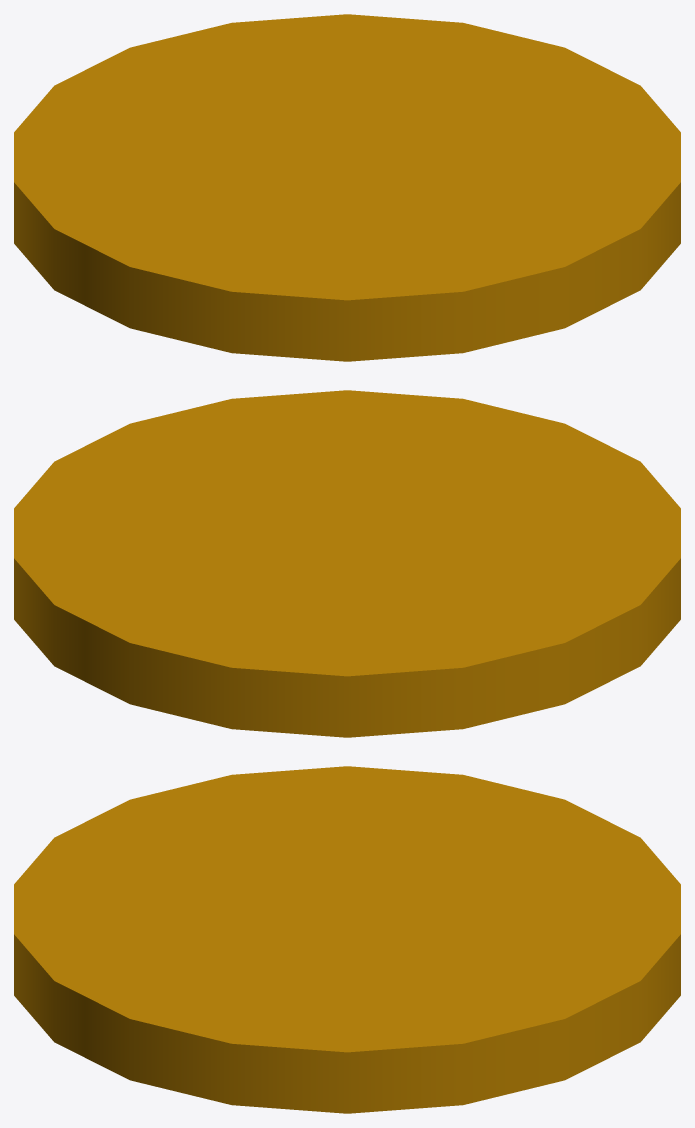
The model's file is soupBase_onion.FBX.
3 renders of one model, top to bottom at view 1: azimuth 30°, elevation 25°; view 2: azimuth 150°, elevation 25°; view 3: azimuth 270°, elevation 25°, orthographic.
Visible parts, largest first — view 1: Cylinder002; view 2: Cylinder002; view 3: Cylinder002.
Boxes of the visible parts, x1=… form: Cylinder002: x1=14, y1=14, x2=680, y2=361; Cylinder002: x1=14, y1=390, x2=680, y2=737; Cylinder002: x1=14, y1=766, x2=680, y2=1113.
Bounding box in the file's own units: 92.13 × 90.73 × 9.21.
Materials: 1 (1 with a texture image).
